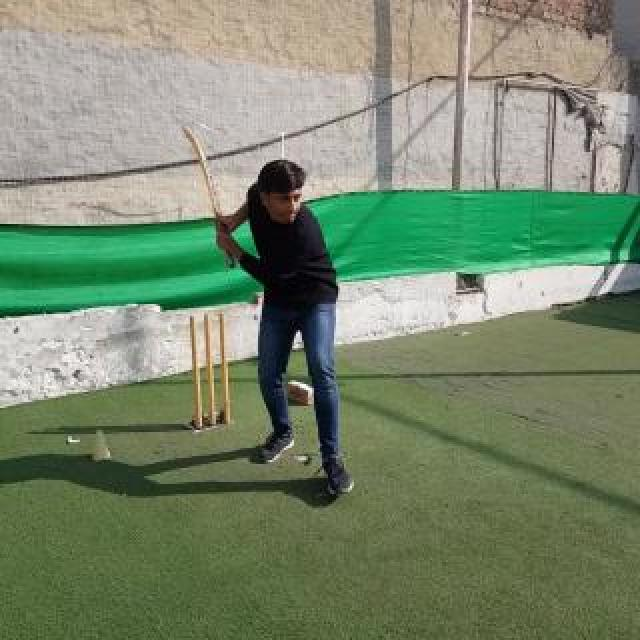bat: (182, 126, 236, 270)
